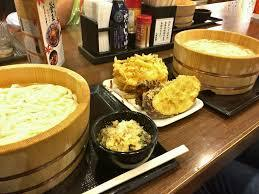kakiage: (112, 54, 169, 91)
kamaage: (1, 66, 88, 148), (177, 29, 259, 64)
satumaimo: (145, 76, 201, 116)
